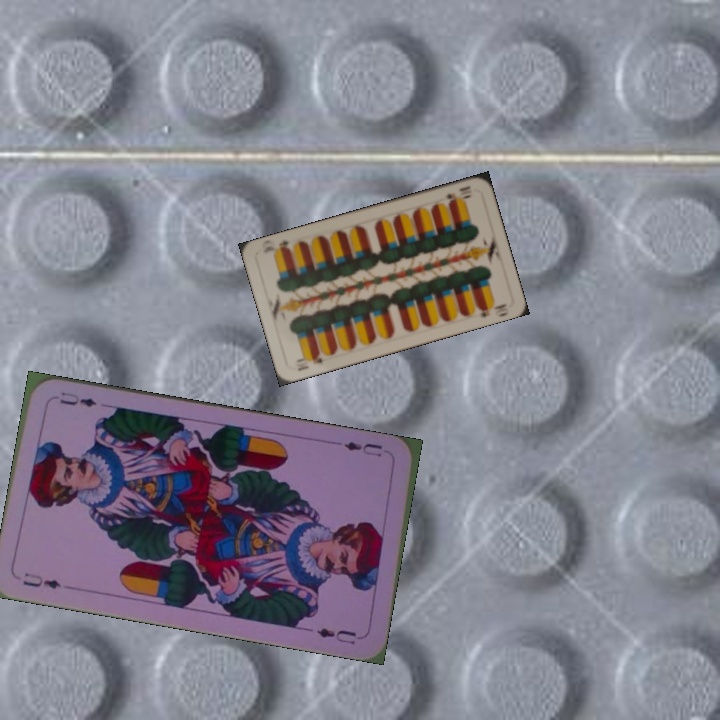E10: (291, 349, 325, 373), (441, 182, 474, 206)
EU: (18, 568, 64, 592), (340, 437, 385, 460)
